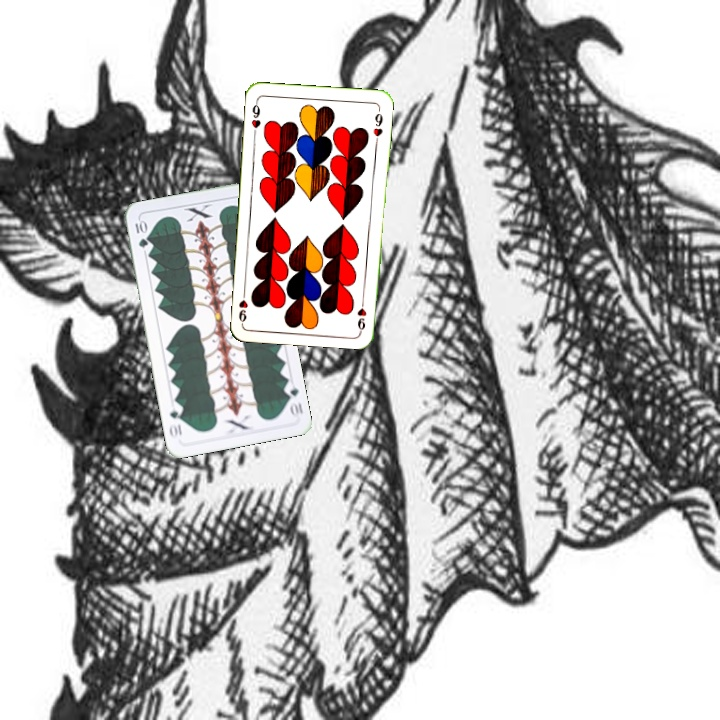G10: (280, 379, 305, 420), (131, 216, 150, 250)
H9: (247, 97, 263, 137), (354, 292, 369, 333)
